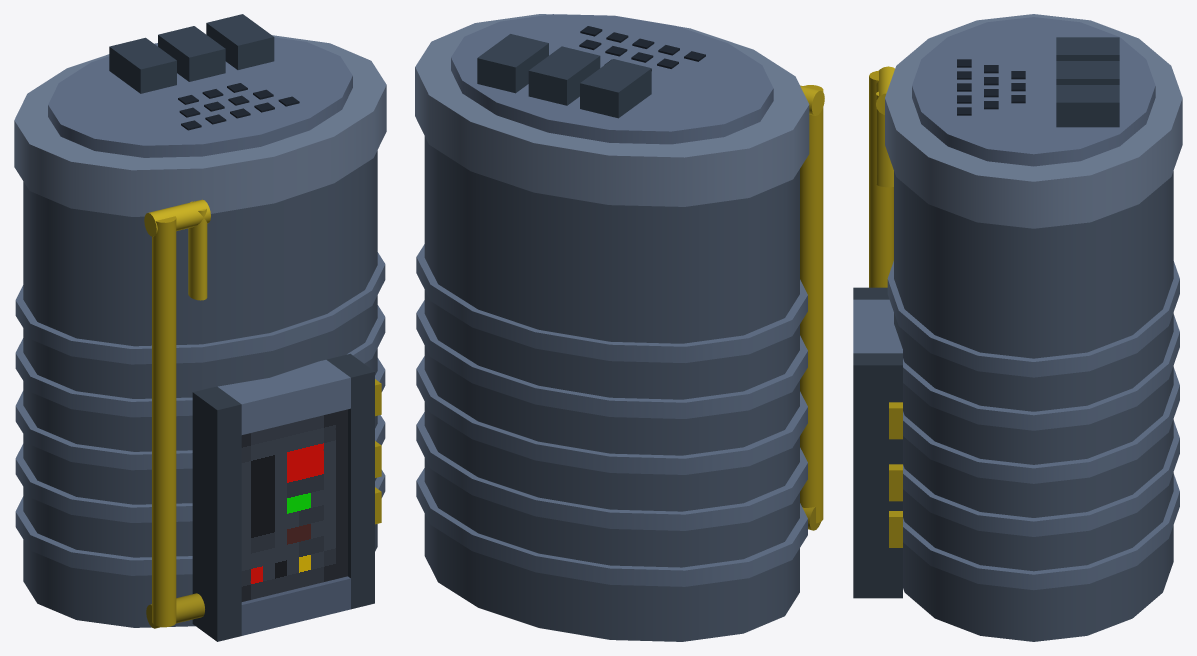
The model's file is CMU3DSMESBasicCloud.glb.
3 renders of one model, left to right at view 1: azimuth 30°, elevation 25°; view 2: azimuth 150°, elevation 25°; view 3: azimuth 270°, elevation 25°, orthographic. The views are drawn at different scales.
Visible parts, largest first — view 1: cylindrical blue-gray energy store, top elliptical casing lip, top inset cover, original SMES controller original face, front controller left jamb, left yellow main vertical conduit, separate lower casing band 5, front controller right jamb, front controller top, separate lower casing band 4, front controller bottom, separate lower casing band 2 (+8 smaller); view 2: cylindrical blue-gray energy store, top elliptical casing lip, top inset cover, separate lower casing band 1, separate lower casing band 5, separate lower casing band 4, separate lower casing band 3, separate lower casing band 2, left yellow main vertical conduit, top terminal block 1, top terminal block 2, top terminal block 3; view 3: cylindrical blue-gray energy store, top elliptical casing lip, top inset cover, front controller right jamb, separate lower casing band 5, separate lower casing band 3, separate lower casing band 4, separate lower casing band 2, separate lower casing band 1, left yellow main vertical conduit, top terminal block 3, front controller top (+7 smaller).
Part boxes in pixels (<box>): cylindrical blue-gray energy store: <box>23,150,377,627</box>; top elliptical casing lip: <box>14,35,386,216</box>; top inset cover: <box>48,37,352,157</box>; original SMES controller original face: <box>241,409,347,601</box>; front controller left jamb: <box>192,386,241,641</box>; left yellow main vertical conduit: <box>152,216,176,627</box>; separate lower casing band 5: <box>15,252,385,364</box>; front controller right jamb: <box>326,353,374,609</box>; front controller top: <box>218,360,350,434</box>; separate lower casing band 4: <box>15,305,385,417</box>; front controller bottom: <box>241,576,350,635</box>; separate lower casing band 2: <box>15,415,385,522</box>; cylindrical blue-gray energy store: <box>424,136,799,641</box>; top elliptical casing lip: <box>415,14,809,206</box>; top inset cover: <box>451,14,773,144</box>; separate lower casing band 1: <box>416,468,807,586</box>; separate lower casing band 5: <box>416,244,807,362</box>; separate lower casing band 4: <box>416,300,807,418</box>; separate lower casing band 3: <box>416,356,807,474</box>; separate lower casing band 2: <box>416,412,807,530</box>; left yellow main vertical conduit: <box>800,85,823,523</box>; top terminal block 1: <box>580,59,651,118</box>; top terminal block 2: <box>528,46,600,105</box>; top terminal block 3: <box>477,34,548,93</box>; cylindrical blue-gray energy store: <box>894,171,1173,641</box>; top elliptical casing lip: <box>885,14,1182,228</box>; top inset cover: <box>912,17,1155,166</box>; front controller right jamb: <box>853,353,902,598</box>; separate lower casing band 5: <box>887,261,1179,377</box>; separate lower casing band 3: <box>903,367,1179,483</box>; separate lower casing band 4: <box>903,314,1179,430</box>; separate lower casing band 2: <box>903,420,1179,536</box>; separate lower casing band 1: <box>903,474,1179,590</box>; left yellow main vertical conduit: <box>869,70,893,287</box>; top terminal block 3: <box>1056,85,1119,127</box>; front controller top: <box>853,299,902,353</box>.
Bounding box in the file's own units: 0.88 × 1.23 × 0.73.
14 materials, 1 textured.
